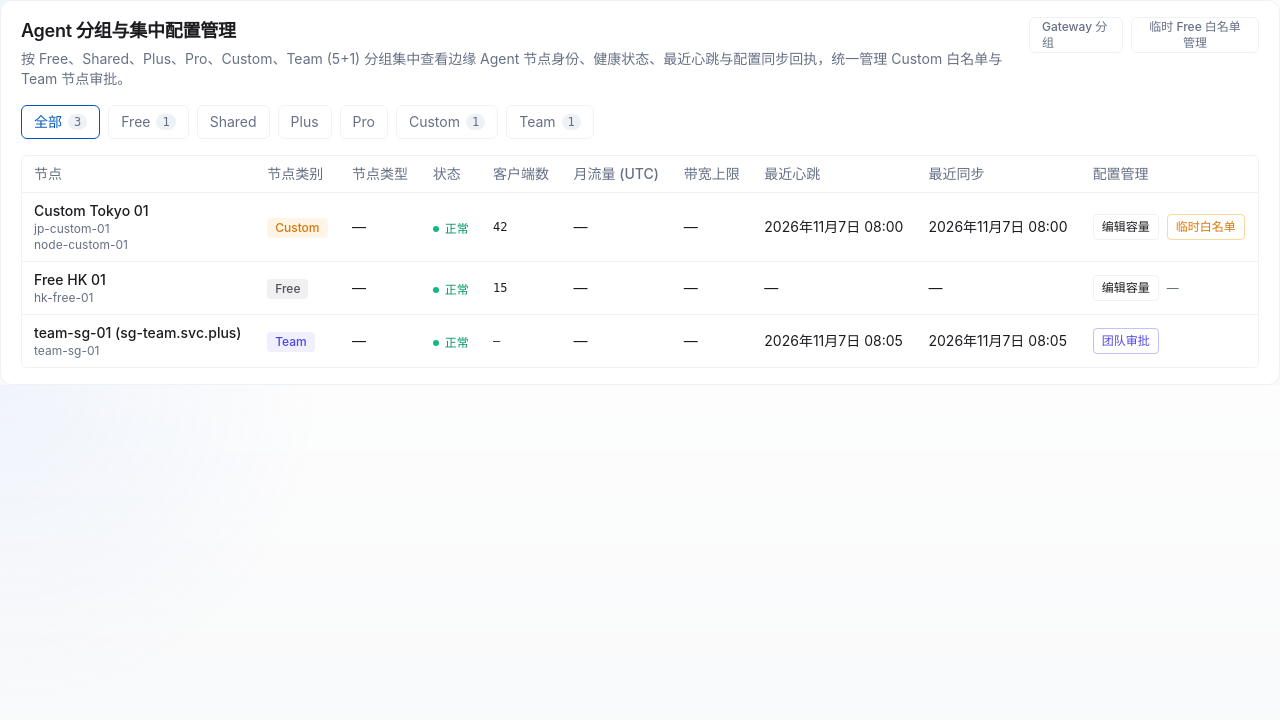
supports 5+1 classes including Team enrollments and inspects client count
Check: the text "42" is shown, box [481,192,562,262]
Check: the text "15" is shown, box [481,262,562,314]
Note: Test Team class filter
Click the button "Team 1" at (550, 122), box [506,105,594,139]
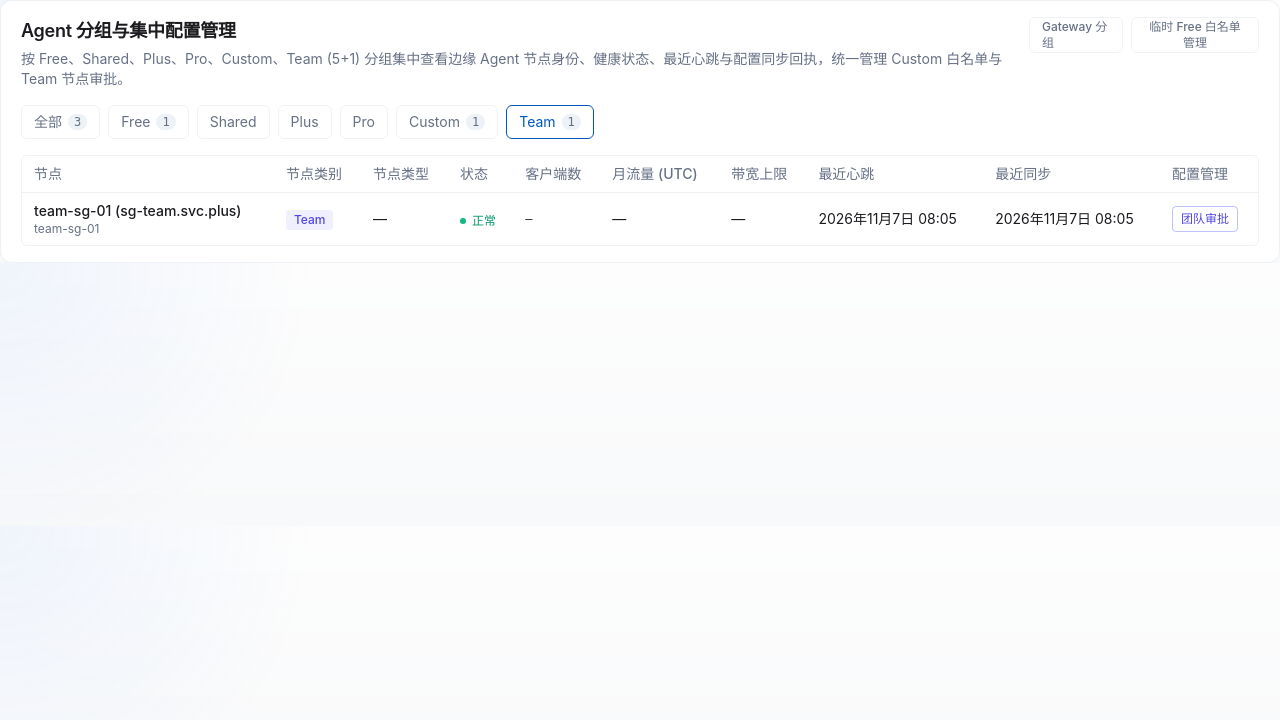
Check: the column heading "team-sg-01 (sg-team.svc.plus)" is shown, box [34,202,242,219]
Note: Test Custom class filter & opening grants modal
Click the button "Custom 1" at (447, 122), box [396,105,498,139]
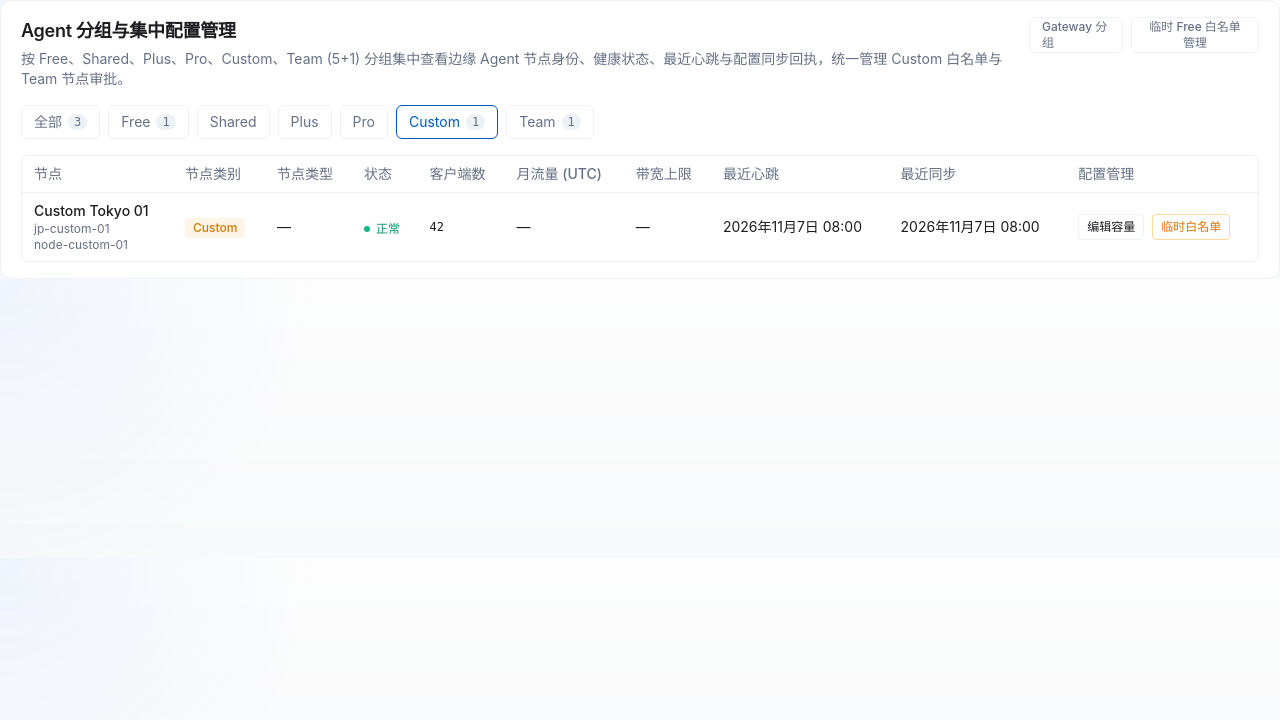
Note: Click row action for grants modal
Click the button "临时白名单" at (1191, 227), box [1152,214,1230,240]
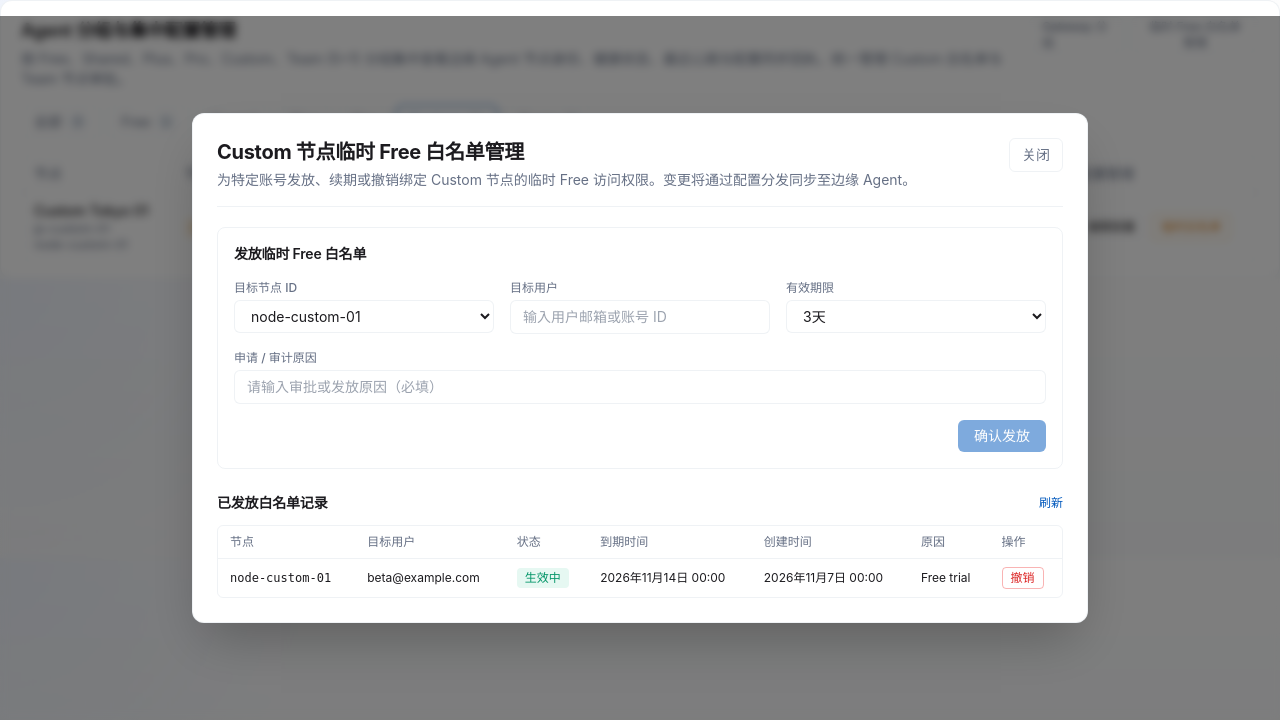
Check: the dialog "Custom 节点临时 Free 白名单管理" is shown
Check: the text "beta@example.com" is shown, box [355,558,505,597]
Check: the text "Free trial" is shown, box [909,558,990,597]
